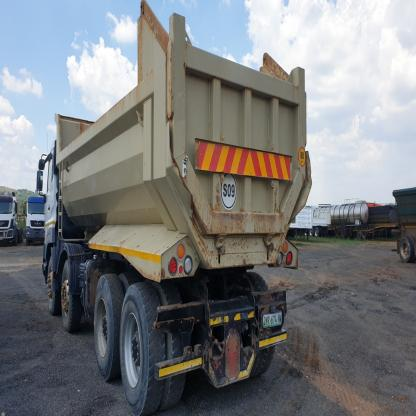dump_truck: (42, 9, 301, 408), (0, 189, 20, 256), (23, 190, 45, 248)
